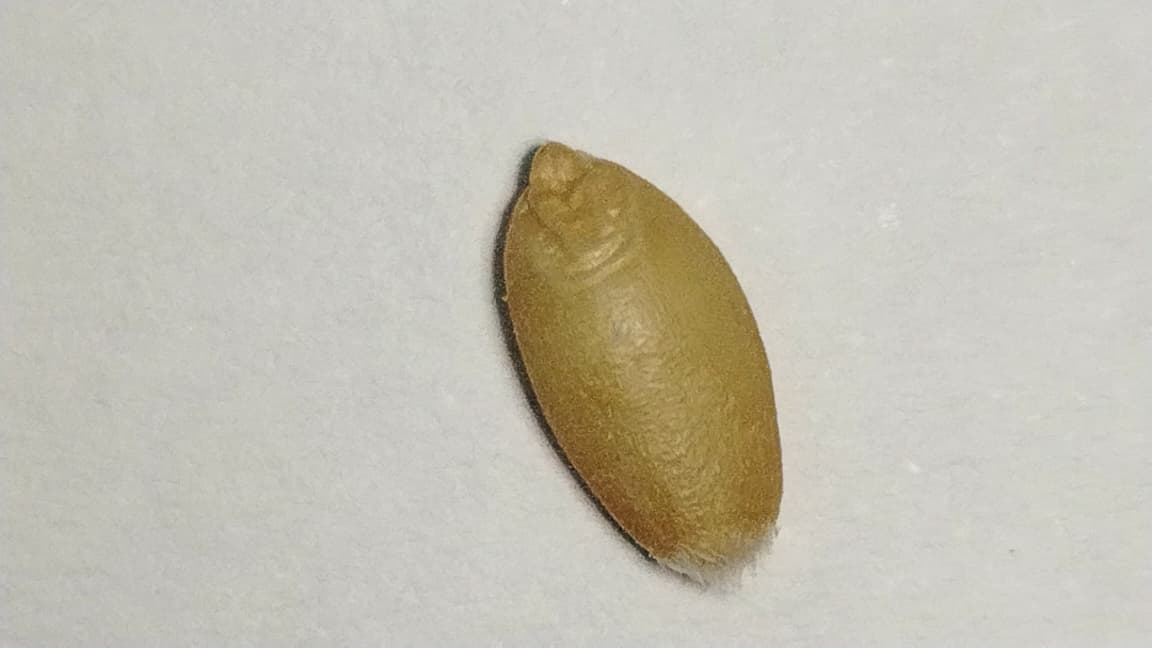healthy: (502, 142, 781, 554)
